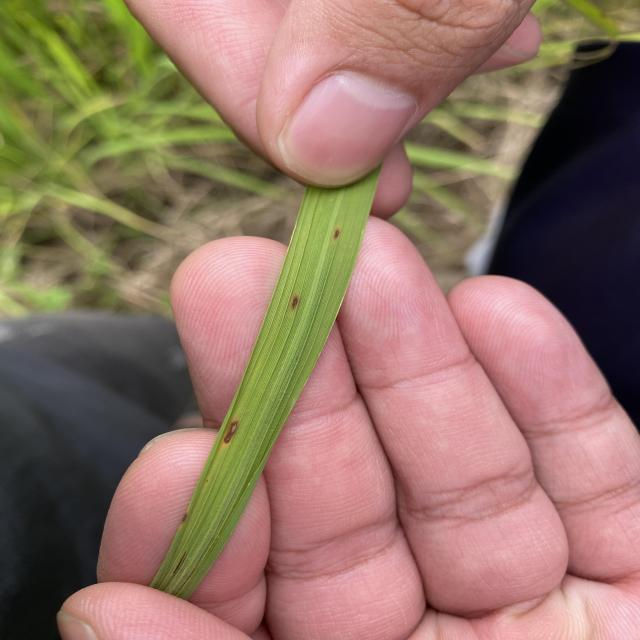Dom nau: (223, 420, 238, 444), (291, 297, 300, 311), (333, 229, 340, 240), (181, 512, 188, 522)
